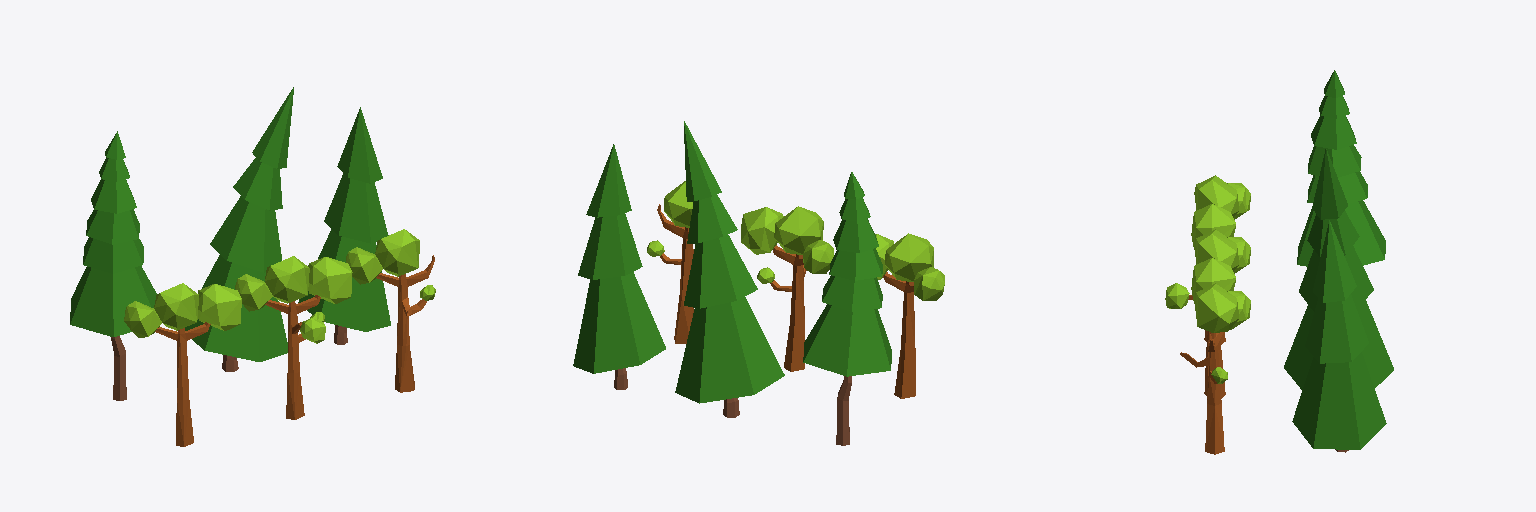
The picture shows the model from 3 angles: view 1: azimuth 30°, elevation 25°; view 2: azimuth 150°, elevation 25°; view 3: azimuth 270°, elevation 25°; orthographic projection.
Parts seen in each view (by area): view 1: Pine_Tree_02, Pine_Tree_01, Pine_Tree_03, Tree_02, Tree_01, Tree_03; view 2: Pine_Tree_02, Pine_Tree_03, Pine_Tree_01, Tree_02, Tree_01, Tree_03; view 3: Pine_Tree_03, Pine_Tree_02, Pine_Tree_01, Tree_03, Tree_02, Tree_01.
Part boxes in pixels (bbox=[...]): Pine_Tree_02: bbox=[185, 87, 293, 371]; Pine_Tree_01: bbox=[70, 131, 156, 400]; Pine_Tree_03: bbox=[298, 107, 390, 344]; Tree_02: bbox=[235, 256, 352, 419]; Tree_01: bbox=[124, 283, 241, 446]; Tree_03: bbox=[346, 229, 435, 392]; Pine_Tree_02: bbox=[675, 121, 784, 417]; Pine_Tree_03: bbox=[573, 144, 665, 389]; Pine_Tree_01: bbox=[803, 172, 891, 445]; Tree_02: bbox=[741, 206, 833, 371]; Tree_01: bbox=[875, 233, 944, 398]; Tree_03: bbox=[647, 181, 693, 343]; Pine_Tree_03: bbox=[1292, 220, 1386, 452]; Pine_Tree_02: bbox=[1284, 149, 1393, 389]; Pine_Tree_01: bbox=[1297, 70, 1385, 266]; Tree_03: bbox=[1180, 283, 1250, 454]; Tree_02: bbox=[1165, 229, 1250, 398]; Tree_01: bbox=[1191, 175, 1250, 344].
Size of the model in its own units: 5.59 by 4.8 by 3.59.
2 materials, 2 textured.